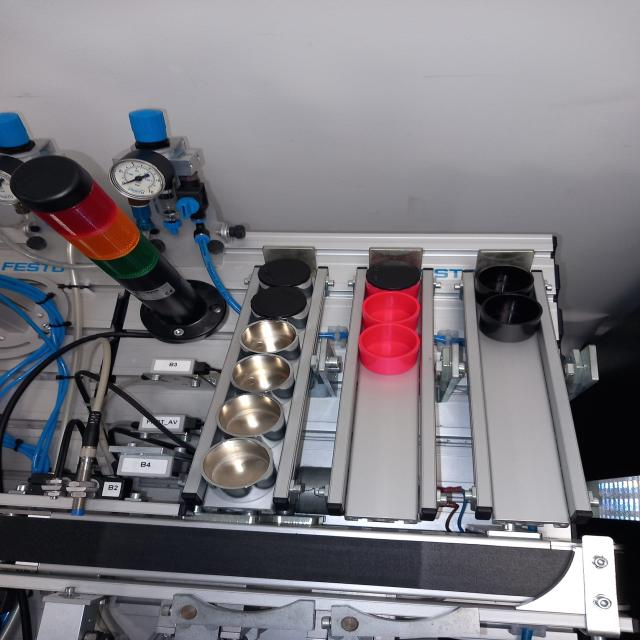NoLid: (203, 441, 275, 496), (214, 396, 288, 446), (356, 326, 424, 377), (481, 294, 547, 345), (231, 356, 297, 396), (240, 322, 300, 359), (475, 262, 534, 298), (359, 293, 418, 327)
Workpiece: (365, 260, 424, 295), (252, 290, 309, 325), (258, 258, 316, 292)
